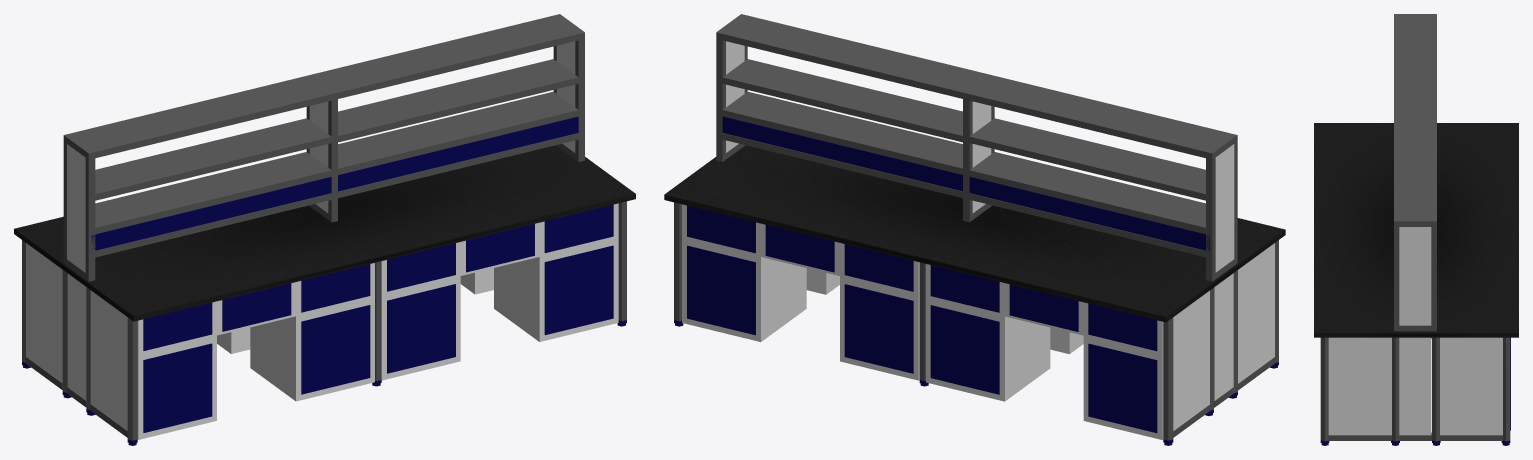
The model's file is Chemestry table.fbx.
3 views of the same model, side by side, from view 1: azimuth 30°, elevation 25°; view 2: azimuth 150°, elevation 25°; view 3: azimuth 270°, elevation 25° (orthographic). The views are drawn at different scales.
Visible parts, largest first — view 1: chemistrydesk, drawerdoor (×10), sidetop7, cabinet (×8), sidetop8, sidetop9, sidetop10, sidetop11, side1, side2, sidetop14, sidetop15 (+9 smaller); view 2: chemistrydesk, drawerdoor (×10), sidetop7, cabinet (×8), sidetop8, sidetop9, sidetop11, sidetop10, side1, side2, sidetop14, sidetop15 (+8 smaller); view 3: chemistrydesk, sidetop7, side1, side2, sidetop1, side3, pCylinder7, pCylinder4, pCylinder5, pCylinder6, side5, side6.
Boxes of the visible parts, left/top/right/bottom form: chemistrydesk: left=14, top=145, right=635, bottom=321; drawerdoor (×10): left=143, top=204, right=613, bottom=432; sidetop7: left=63, top=14, right=584, bottom=281; cabinet (×8): left=137, top=203, right=618, bottom=439; sidetop8: left=338, top=59, right=578, bottom=142; sidetop9: left=338, top=91, right=578, bottom=174; sidetop10: left=92, top=152, right=332, bottom=234; sidetop11: left=92, top=118, right=332, bottom=200; side1: left=90, top=290, right=127, bottom=430; side2: left=26, top=243, right=62, bottom=383; sidetop14: left=338, top=116, right=578, bottom=191; sidetop15: left=91, top=177, right=331, bottom=250; chemistrydesk: left=664, top=145, right=1285, bottom=322; drawerdoor (×10): left=687, top=205, right=1157, bottom=433; sidetop7: left=716, top=14, right=1237, bottom=281; cabinet (×8): left=682, top=237, right=1163, bottom=439; sidetop8: left=722, top=59, right=962, bottom=142; sidetop9: left=722, top=91, right=962, bottom=174; sidetop11: left=969, top=118, right=1208, bottom=200; sidetop10: left=969, top=152, right=1208, bottom=234; side1: left=1238, top=243, right=1274, bottom=383; side2: left=1173, top=290, right=1209, bottom=430; sidetop14: left=722, top=116, right=962, bottom=191; sidetop15: left=969, top=177, right=1209, bottom=251; chemistrydesk: left=1314, top=123, right=1518, bottom=337; sidetop7: left=1394, top=14, right=1436, bottom=331; side1: left=1328, top=337, right=1391, bottom=435; side2: left=1440, top=337, right=1502, bottom=435; sidetop1: left=1399, top=227, right=1431, bottom=325; side3: left=1399, top=337, right=1431, bottom=435; pCylinder7: left=1320, top=337, right=1329, bottom=445; pCylinder4: left=1501, top=337, right=1510, bottom=445; pCylinder5: left=1432, top=337, right=1440, bottom=445; pCylinder6: left=1391, top=337, right=1399, bottom=445; side5: left=1328, top=435, right=1391, bottom=440; side6: left=1440, top=435, right=1502, bottom=440.
Bounding box in the file's own units: 6.36 × 3.17 × 2.62.
